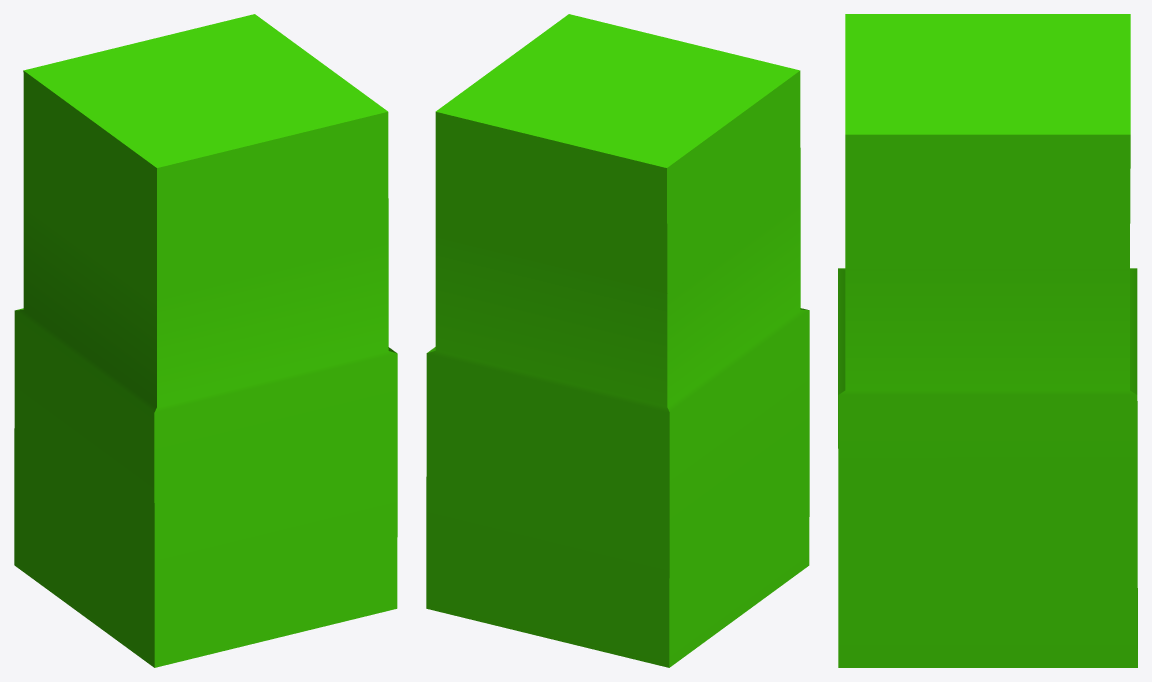
Rendered from Factory_Machine_06_Lod0.fbx.
3 views of the same model, side by side, from view 1: azimuth 30°, elevation 25°; view 2: azimuth 150°, elevation 25°; view 3: azimuth 270°, elevation 25° (orthographic). The views are drawn at different scales.
Visible parts, largest first — view 1: Factory_Machine_06_Lod0; view 2: Factory_Machine_06_Lod0; view 3: Factory_Machine_06_Lod0.
Boxes of the visible parts, box(x1,y1,x2,y2) form: Factory_Machine_06_Lod0: box(14, 14, 397, 667); Factory_Machine_06_Lod0: box(426, 14, 809, 667); Factory_Machine_06_Lod0: box(838, 14, 1137, 667).
Bounding box in the file's own units: 201 × 391 × 200.
